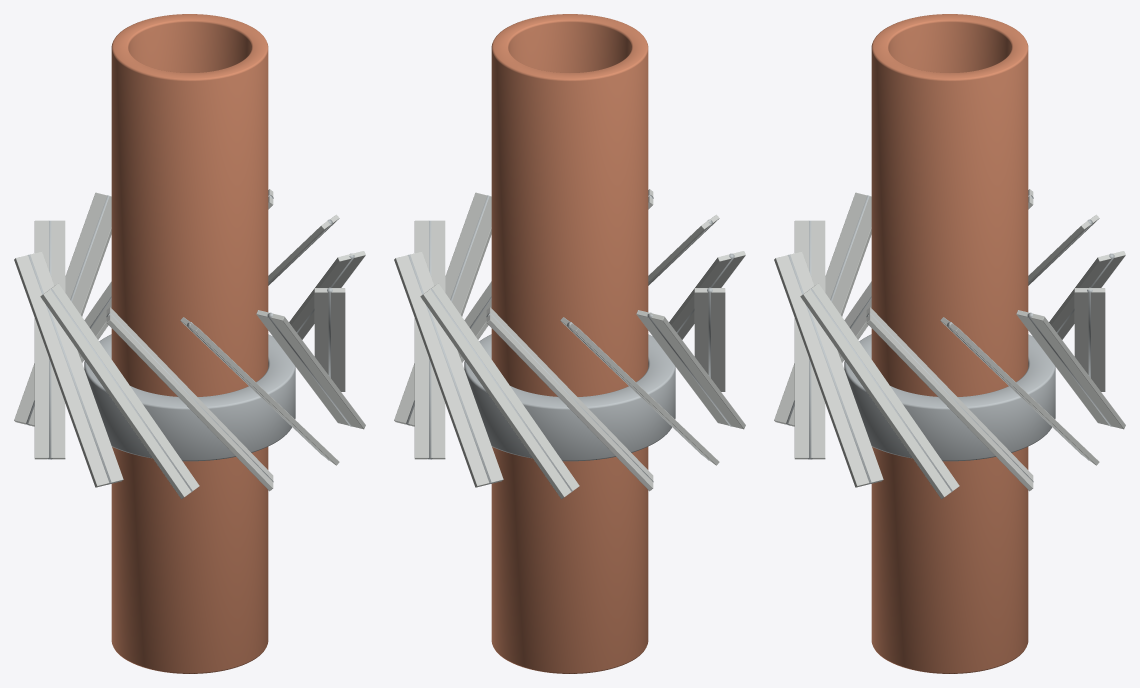
File: cement-basket.glb
3 renders of one model, left to right at view 1: azimuth 30°, elevation 25°; view 2: azimuth 150°, elevation 25°; view 3: azimuth 270°, elevation 25°, orthographic.
Visible parts, largest first — view 1: Basket casing, Basket collar, Basket petal 6, Basket petal 7, Basket petal 5, Basket petal 4, Basket petal 8, Basket petal 10, Basket petal 11, Basket petal 9, Basket petal 0, Basket petal 3 (+2 smaller); view 2: Basket casing, Basket collar, Basket petal 2, Basket petal 3, Basket petal 1, Basket petal 0, Basket petal 4, Basket petal 6, Basket petal 7, Basket petal 5, Basket petal 8, Basket petal 11 (+2 smaller); view 3: Basket casing, Basket collar, Basket petal 10, Basket petal 11, Basket petal 9, Basket petal 8, Basket petal 0, Basket petal 2, Basket petal 3, Basket petal 1, Basket petal 4, Basket petal 7 (+2 smaller).
Part boxes in pixels (left/top/right/bottom): Basket casing: left=111, top=14, right=268, bottom=673; Basket collar: left=84, top=334, right=295, bottom=461; Basket petal 6: left=14, top=251, right=123, bottom=487; Basket petal 7: left=40, top=283, right=199, bottom=499; Basket petal 5: left=34, top=220, right=65, bottom=459; Basket petal 4: left=14, top=192, right=111, bottom=426; Basket petal 8: left=106, top=307, right=273, bottom=491; Basket petal 10: left=256, top=310, right=365, bottom=429; Basket petal 11: left=314, top=288, right=345, bottom=391; Basket petal 9: left=180, top=317, right=339, bottom=465; Basket petal 0: left=289, top=251, right=365, bottom=339; Basket petal 3: left=77, top=281, right=111, bottom=362; Basket casing: left=491, top=14, right=648, bottom=673; Basket collar: left=464, top=334, right=675, bottom=461; Basket petal 2: left=394, top=251, right=503, bottom=487; Basket petal 3: left=420, top=283, right=579, bottom=499; Basket petal 1: left=414, top=220, right=445, bottom=459; Basket petal 0: left=394, top=192, right=491, bottom=426; Basket petal 4: left=486, top=307, right=653, bottom=491; Basket petal 6: left=636, top=310, right=745, bottom=429; Basket petal 7: left=694, top=288, right=725, bottom=391; Basket petal 5: left=560, top=317, right=719, bottom=465; Basket petal 8: left=669, top=251, right=745, bottom=339; Basket petal 11: left=457, top=281, right=491, bottom=362; Basket casing: left=871, top=14, right=1028, bottom=673; Basket collar: left=844, top=334, right=1055, bottom=461; Basket petal 10: left=774, top=251, right=883, bottom=487; Basket petal 11: left=800, top=283, right=959, bottom=499; Basket petal 9: left=794, top=220, right=825, bottom=459; Basket petal 8: left=774, top=192, right=871, bottom=426; Basket petal 0: left=866, top=307, right=1033, bottom=491; Basket petal 2: left=1016, top=310, right=1125, bottom=429; Basket petal 3: left=1074, top=288, right=1105, bottom=391; Basket petal 1: left=940, top=317, right=1099, bottom=465; Basket petal 4: left=1049, top=251, right=1125, bottom=339; Basket petal 7: left=837, top=281, right=871, bottom=362.
Size of the model in its own units: 2.06 by 3.85 by 2.06.
